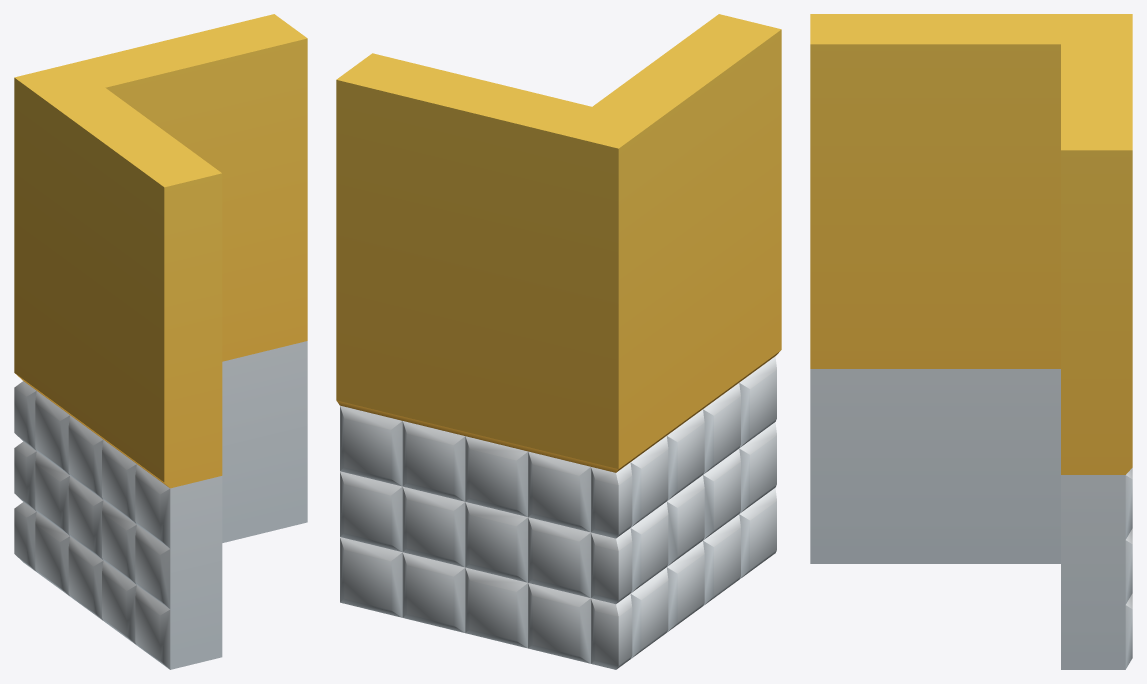
Rendered from Wall Tiled Corner Ou.glb.
The picture shows the model from 3 angles, left to right: view 1: azimuth 30°, elevation 25°; view 2: azimuth 150°, elevation 25°; view 3: azimuth 270°, elevation 25°; orthographic projection. The views are drawn at different scales.
Parts seen in each view (by area): view 1: wall_tiled_corner_outer; view 2: wall_tiled_corner_outer; view 3: wall_tiled_corner_outer.
Part boxes in pixels (x1,y1,x2,y2): wall_tiled_corner_outer: [14, 14, 307, 669]; wall_tiled_corner_outer: [336, 14, 781, 669]; wall_tiled_corner_outer: [810, 14, 1132, 669].
Bounding box in the file's own units: 2.25 × 4 × 2.25.
Materials: 1 (1 with a texture image).
